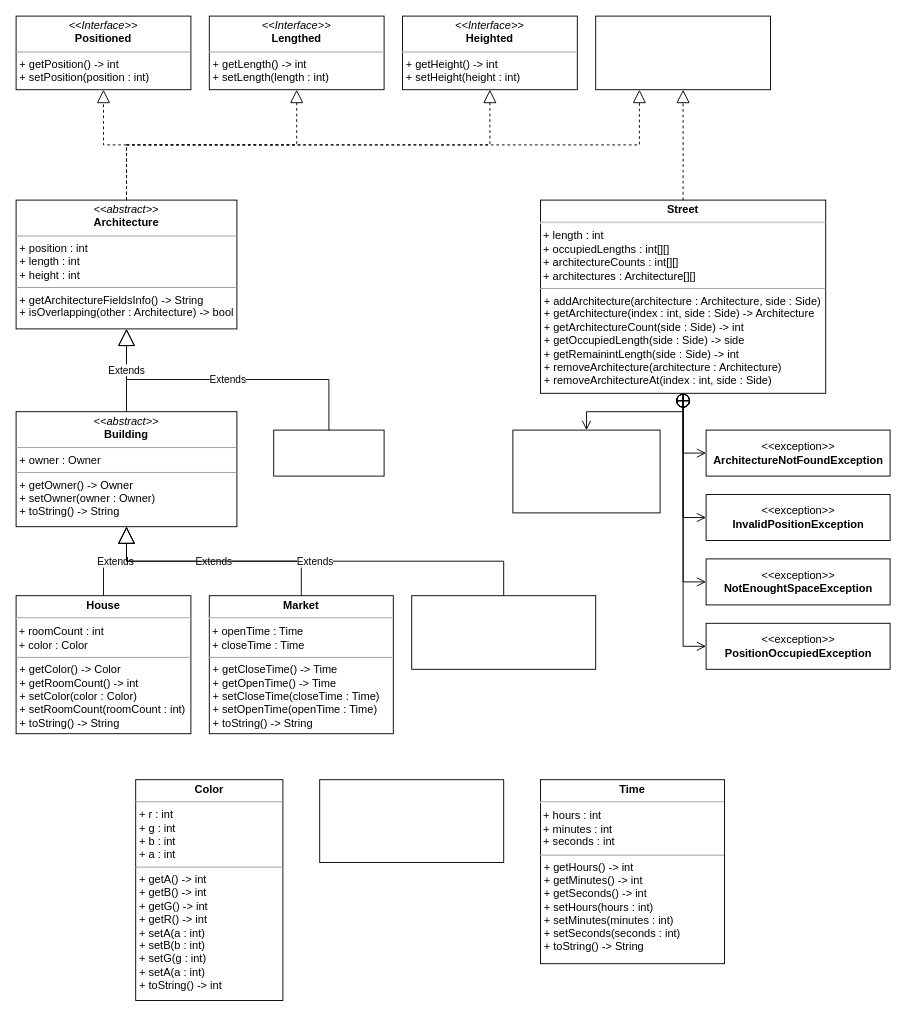
Some shapes in this 906 by 1017 pixel diagram are drawn without their labels. Here are the shapes that lost their labels. From the top down, the centre of each, then its label:
[682,52]: <<Interface>> Focused + focus() -> String
[328,452]: Playground + toString() -> String
[586,471]: <<enumeration>> Side Left = 0 Right = 1
[503,632]: Office + jobTypes : String[] + toString() -> String
[411,820]: Owner + name : String + getName() -> String + setName(name : String)
